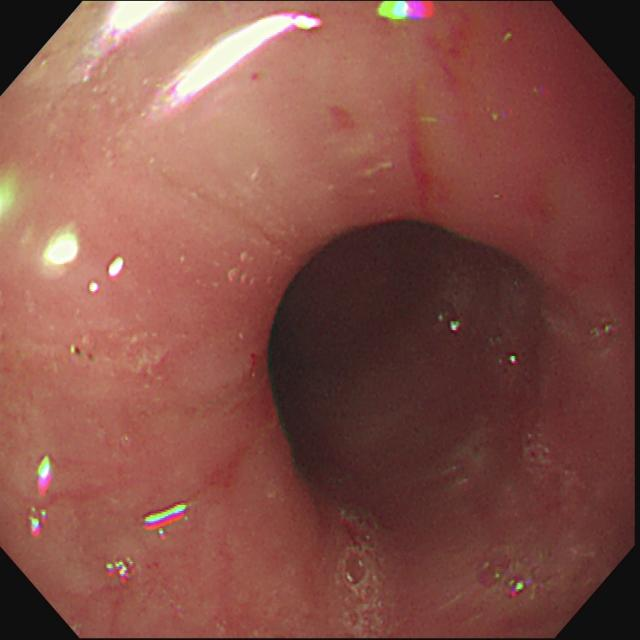E: (261, 207, 546, 531)
T: (338, 505, 386, 634), (476, 556, 528, 601)
U: (164, 12, 324, 110), (97, 2, 174, 40), (29, 455, 53, 540), (41, 231, 80, 270), (142, 502, 188, 532), (373, 2, 437, 23), (106, 558, 135, 585), (106, 256, 126, 279)
